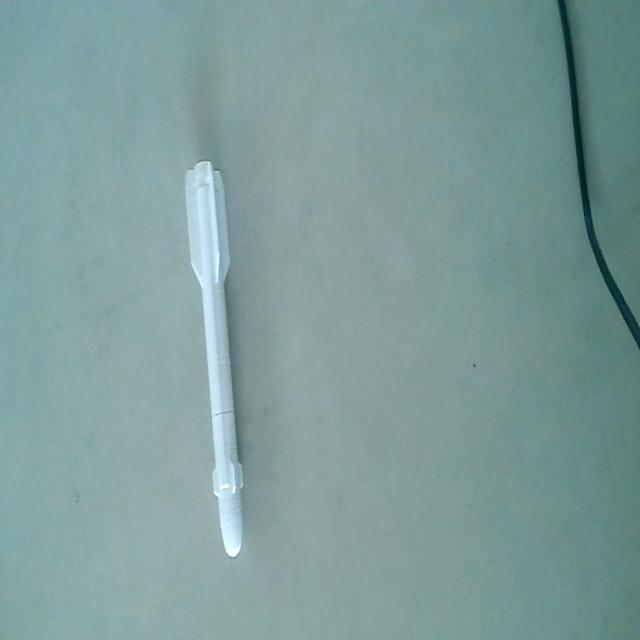Rocket: (182, 154, 249, 564)
